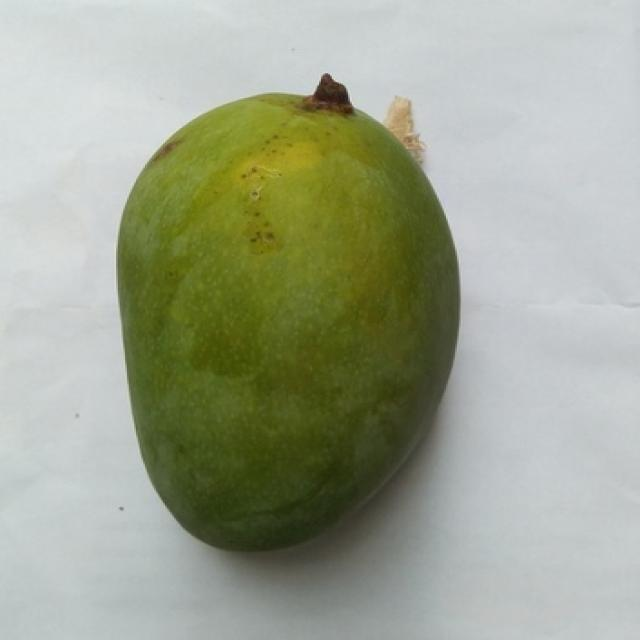Mango: (118, 94, 457, 551)
